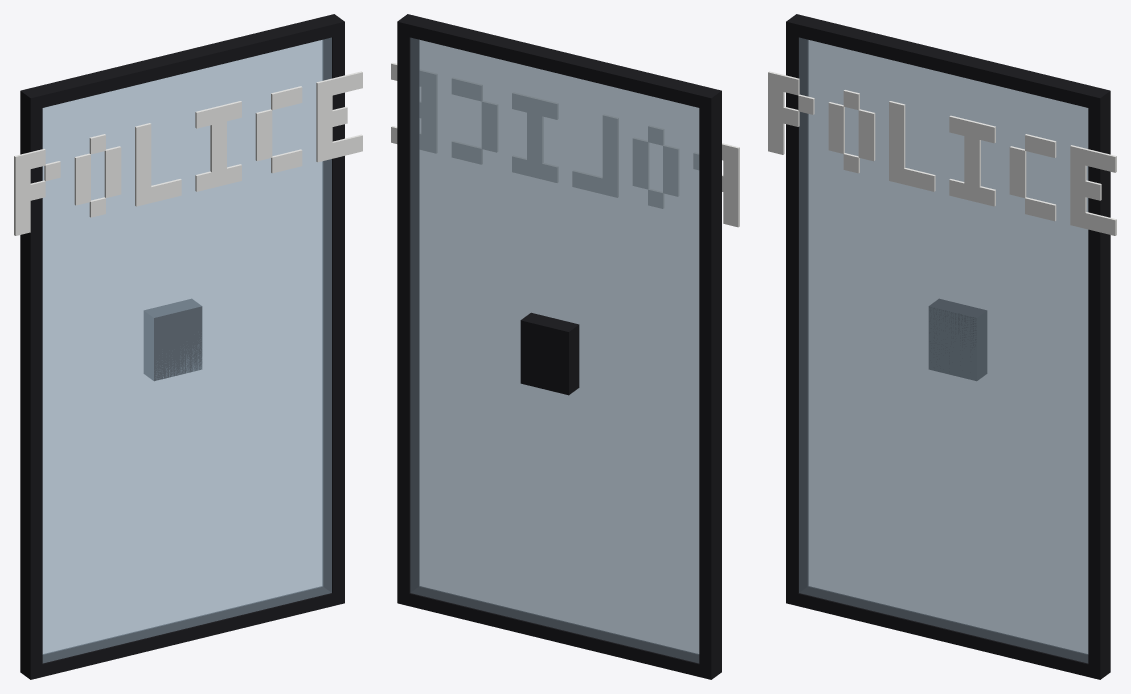
Rendered from riot_shield.glb.
3 renders of one model, left to right at view 1: azimuth 30°, elevation 25°; view 2: azimuth 150°, elevation 25°; view 3: azimuth 330°, elevation 25°, orthographic.
Parts seen in each view (by area): view 1: riot_shield; view 2: riot_shield; view 3: riot_shield.
Boxes of the visible parts, x1=… form: riot_shield: x1=14, y1=14, x2=362, y2=679; riot_shield: x1=391, y1=14, x2=739, y2=679; riot_shield: x1=768, y1=14, x2=1116, y2=679.
Size of the model in its own units: 0.575 by 0.92 by 0.0615.
Materials: 2 (2 with a texture image).
